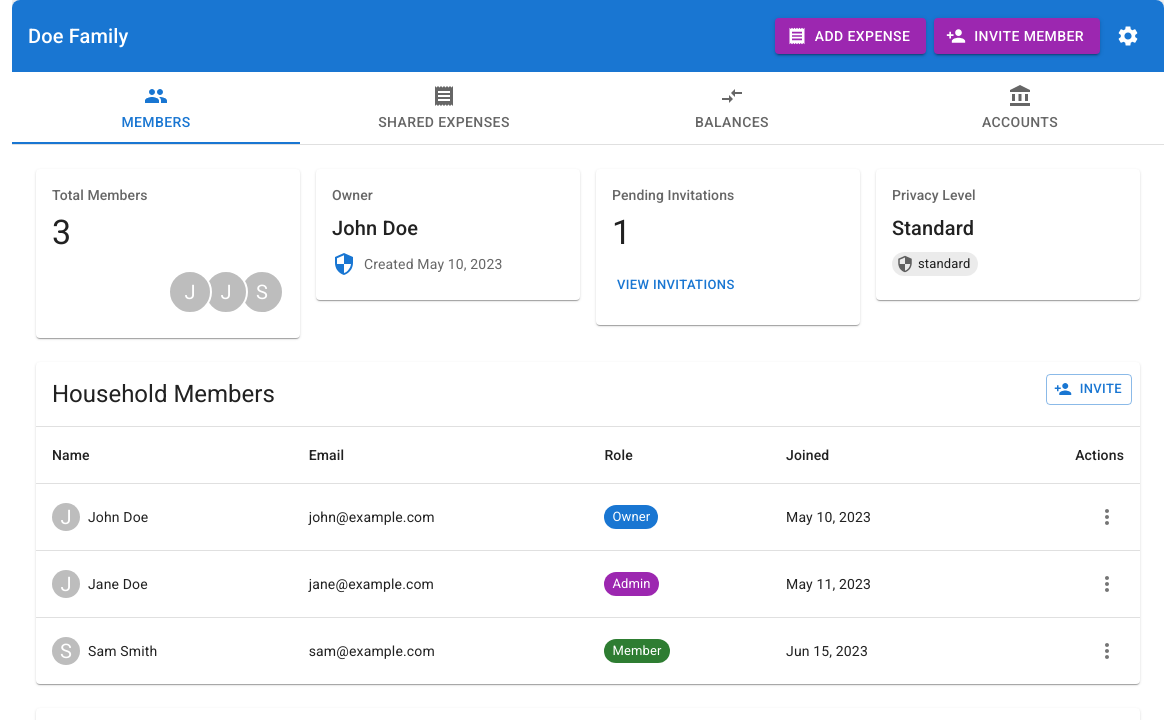
Test: HouseholdManager Component › calculates member balances correctly
// Switch to Balances tab
Click the tab "Balances" at (732, 108), box [588,72,876,144]
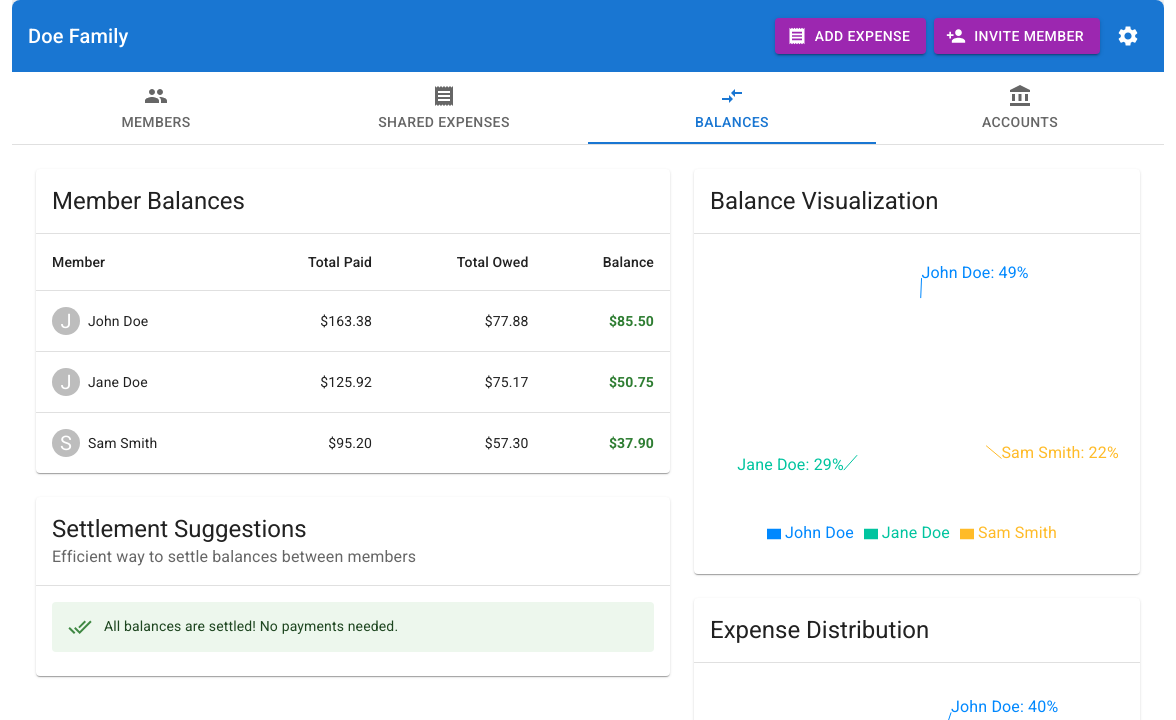
expect the text "Member Balances" is shown: met, box [52,187,245,215]
expect the text "Settlement Suggestions" is shown: met, box [52,515,307,543]
expect the column heading "Total Paid" is shown: met, box [243,234,388,290]
